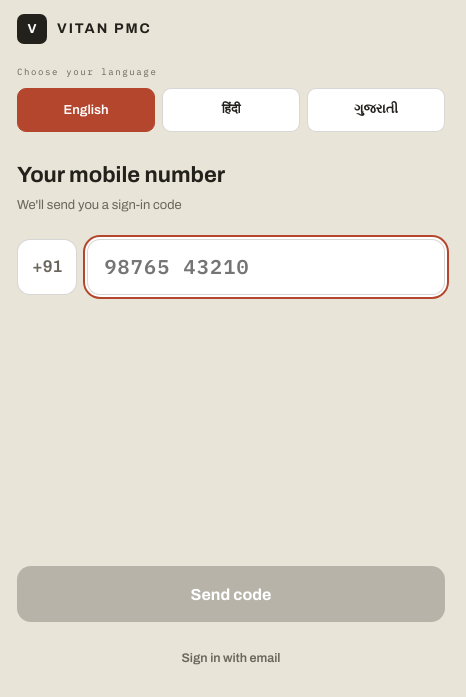
Scenario: #827 one-screen sign-in › a language picked there turns the screen into that language
Click the button with test id "gate-lang-gu".
click(376, 110)  # box [307,88,445,132]
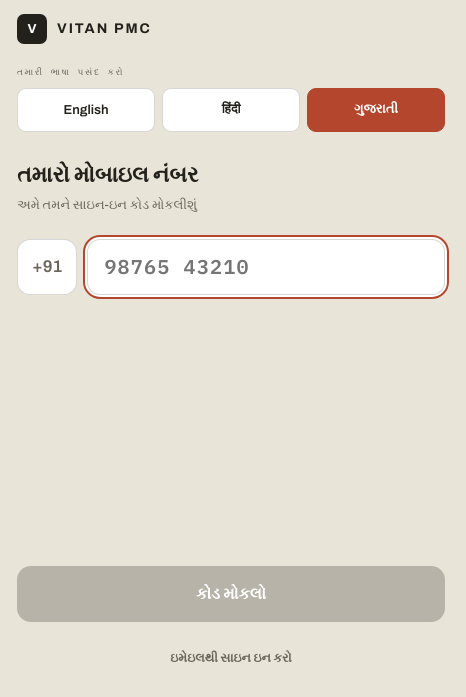
Result: the text "તમારો મોબાઇલ નંબર" is shown at [17,163,198,187]
Result: the button with test id "go-login" reads "ઇમેઇલથી સાઇન ઇન કરો" at [158,636,304,680]
Click the button with test id "gate-lang-hi".
click(231, 110)  # box [162,88,300,132]
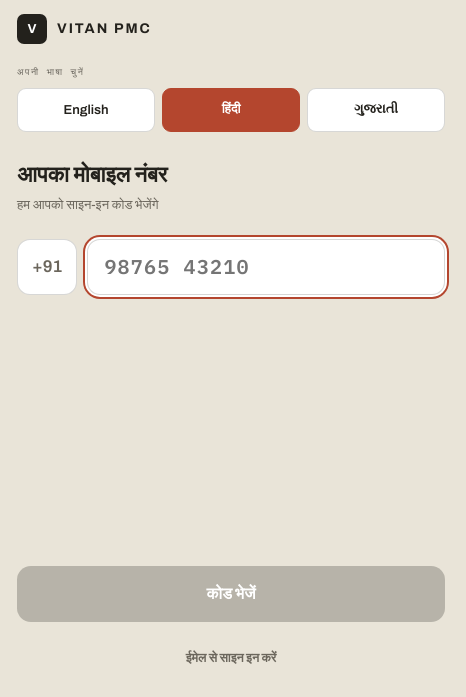
Result: the text "हम आपको साइन-इन कोड भेजेंगे" is shown at [17,198,158,212]
